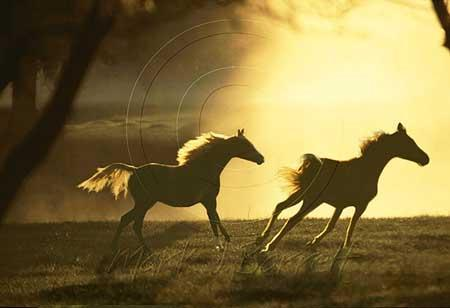horse: (76, 127, 264, 257), (255, 121, 429, 255)
